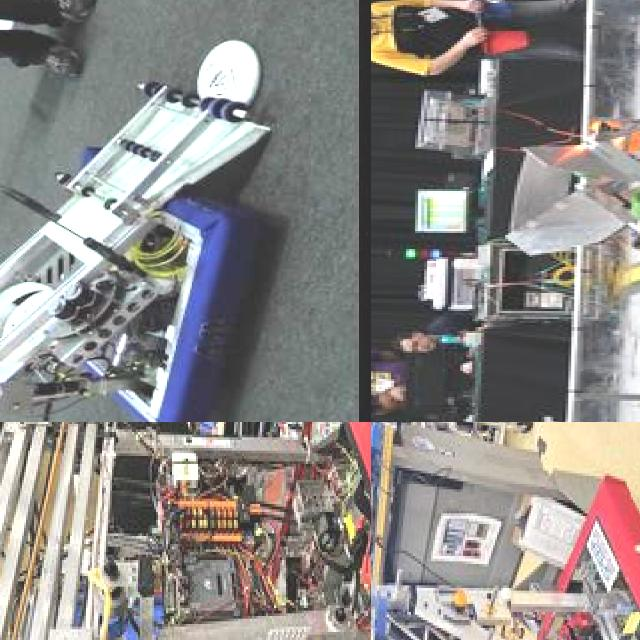FRC-Robots: (0, 0, 336, 422), (0, 422, 371, 640), (443, 0, 640, 306), (371, 435, 640, 640)
